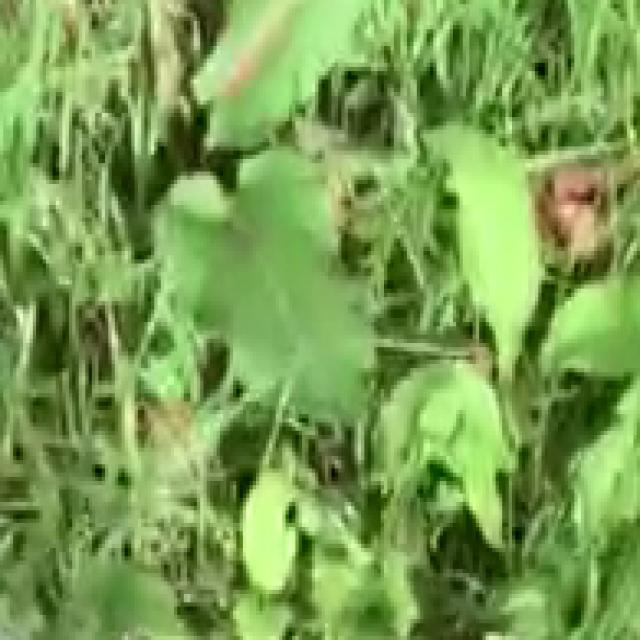organic waste: (76, 0, 450, 427), (367, 96, 640, 627)
